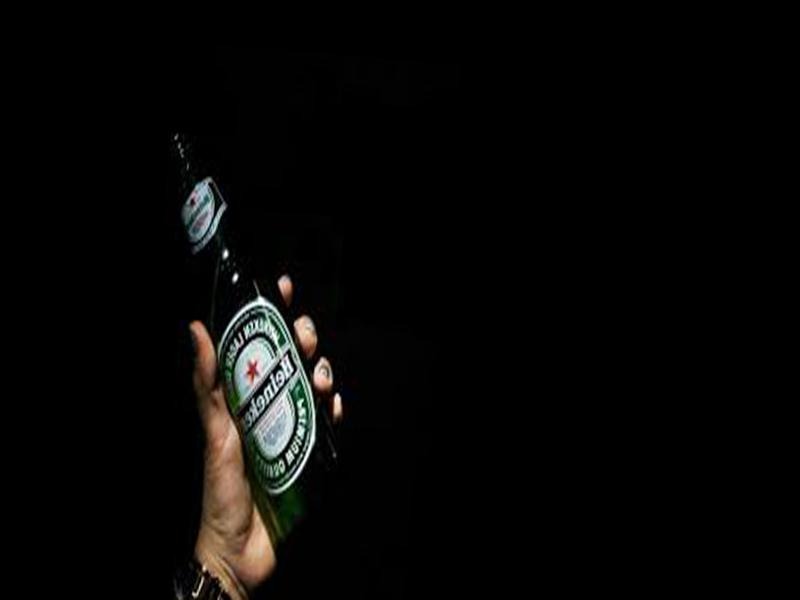Beer: (131, 115, 371, 564)
